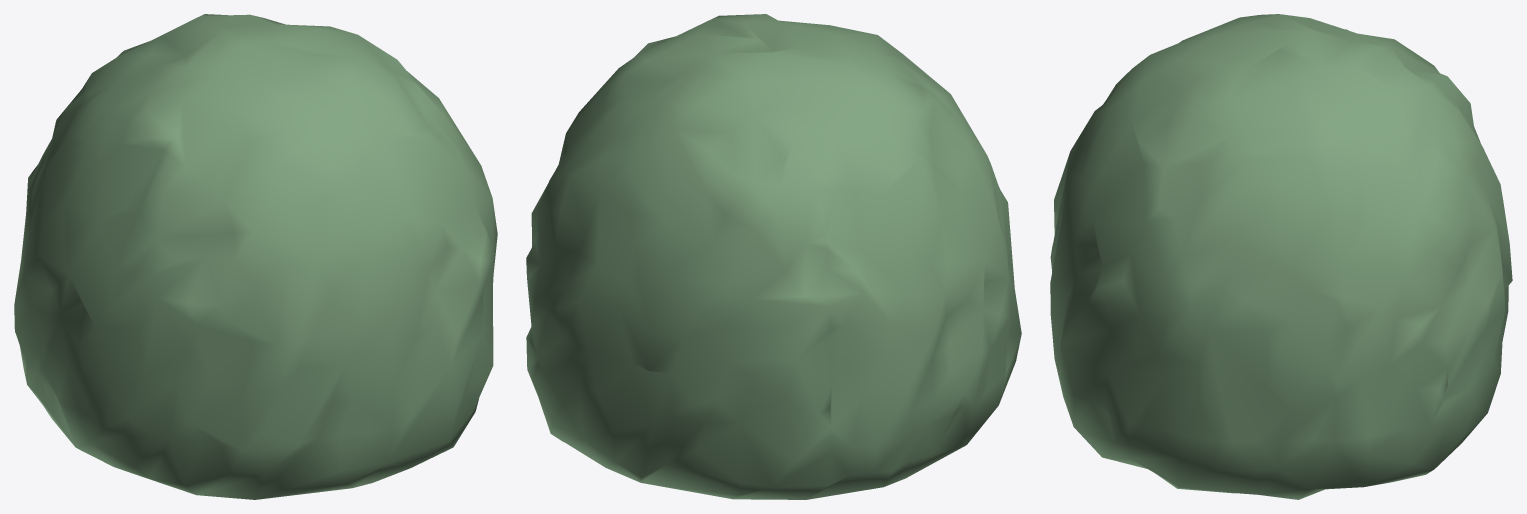
The model's file is Bush_Small.fbx.
The picture shows the model from 3 angles, left to right: view 1: azimuth 30°, elevation 25°; view 2: azimuth 150°, elevation 25°; view 3: azimuth 270°, elevation 25°; orthographic projection. The views are drawn at different scales.
Parts seen in each view (by area): view 1: pCube7; view 2: pCube7; view 3: pCube7.
Boxes of the visible parts, left/top/right/bottom form: pCube7: left=14, top=14, right=497, bottom=499; pCube7: left=526, top=14, right=1021, bottom=499; pCube7: left=1050, top=14, right=1512, bottom=499.
Size of the model in its own units: 2.61 by 2.38 by 2.54.
